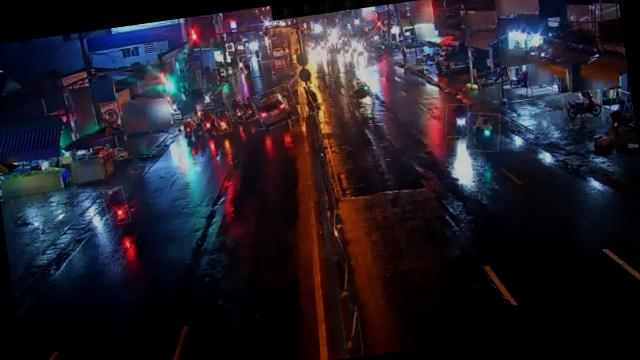Bike: (463, 110, 503, 154), (561, 89, 604, 129), (102, 186, 129, 224), (444, 102, 471, 138), (345, 80, 374, 111), (298, 82, 323, 115), (476, 67, 511, 89), (209, 109, 231, 134), (226, 96, 245, 121), (176, 119, 194, 144), (200, 107, 217, 131), (238, 100, 256, 122)
Car: (252, 84, 299, 128)
